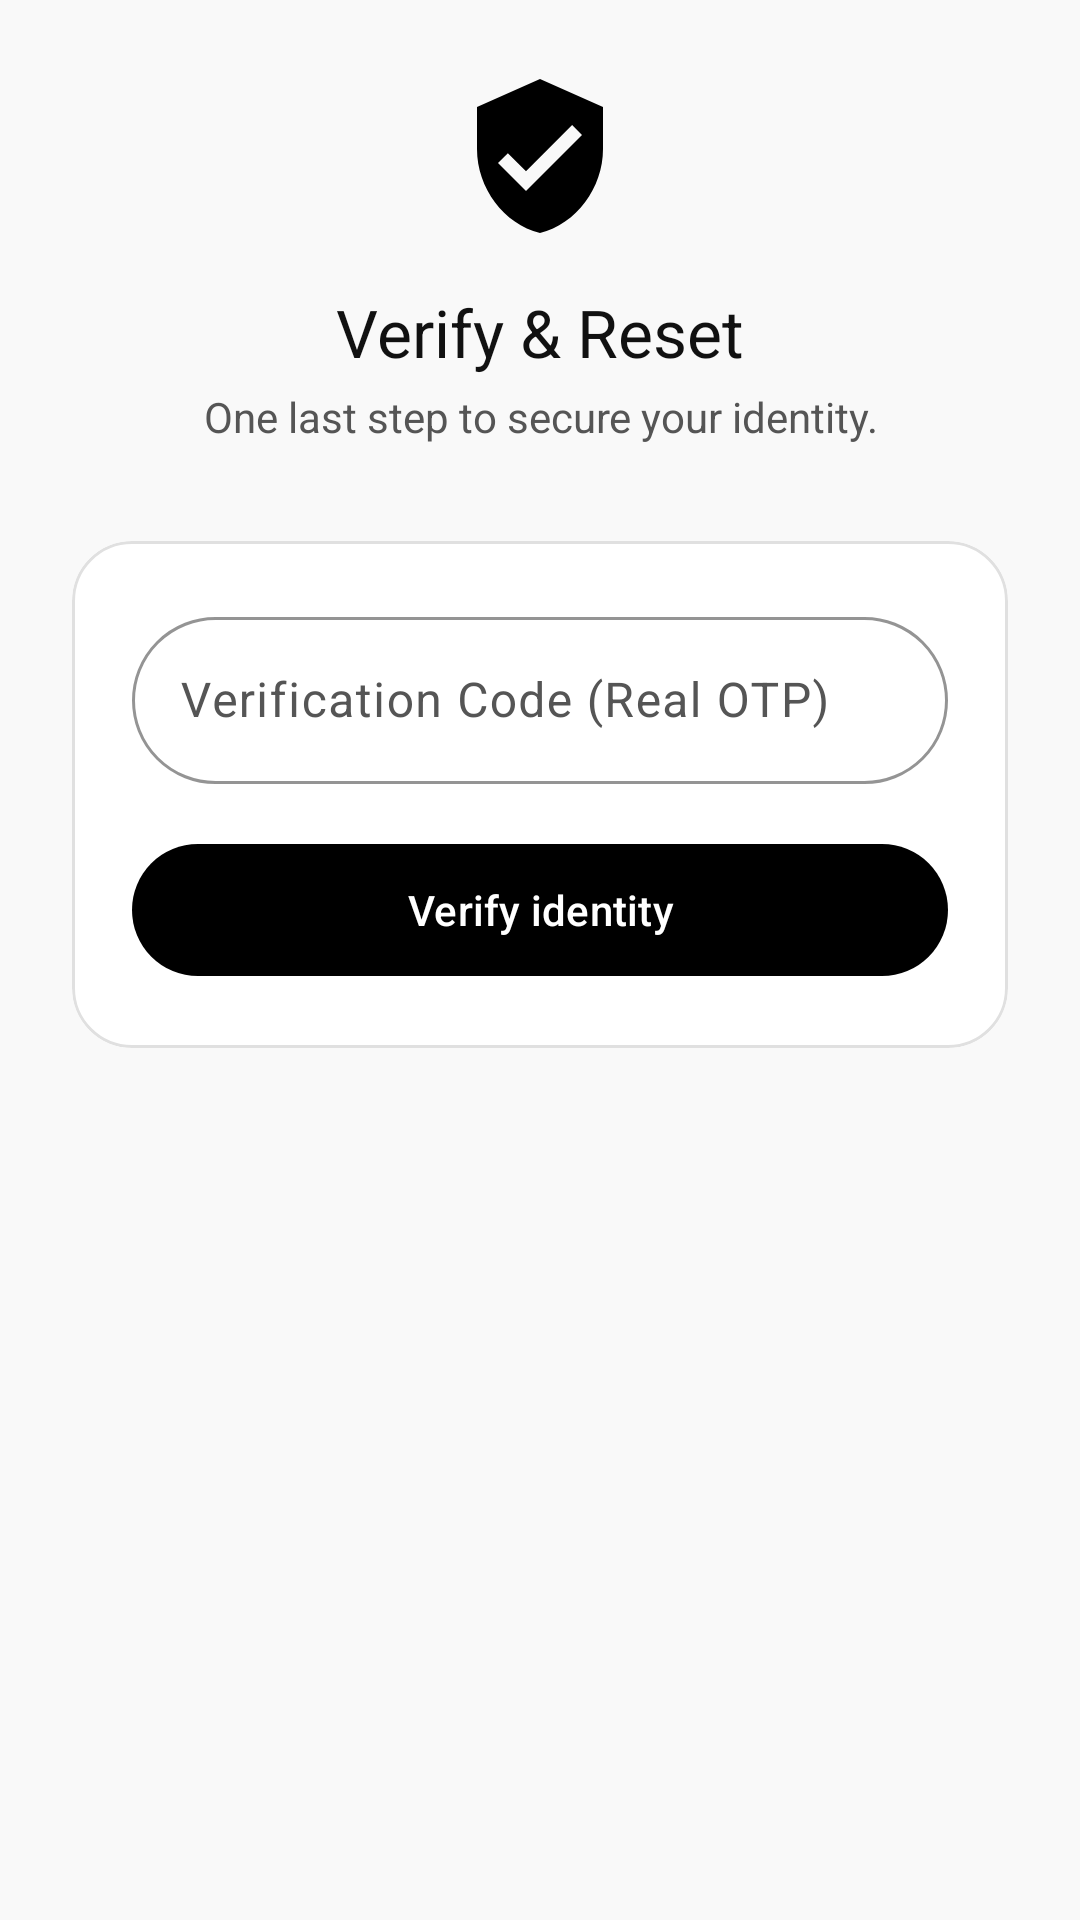

Where to tap for icons on this 1080px×1920px app screen, as (x=x, y=y):
Security verification icon: (x=540, y=156)
